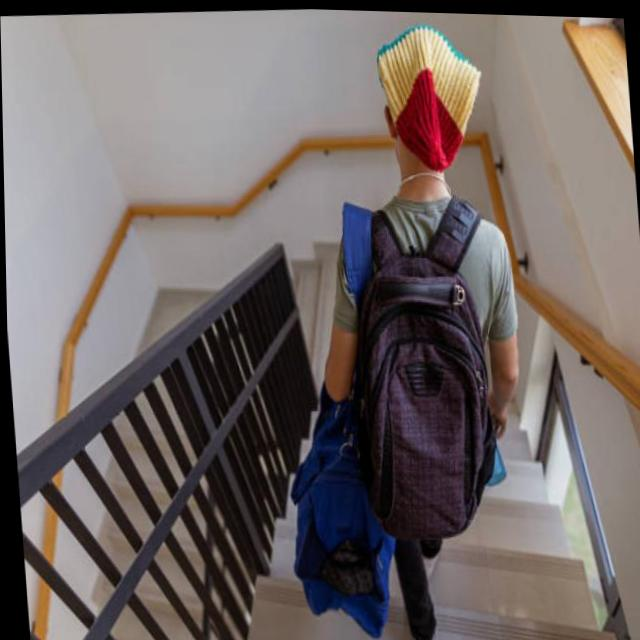no helmet: (359, 17, 502, 189)
